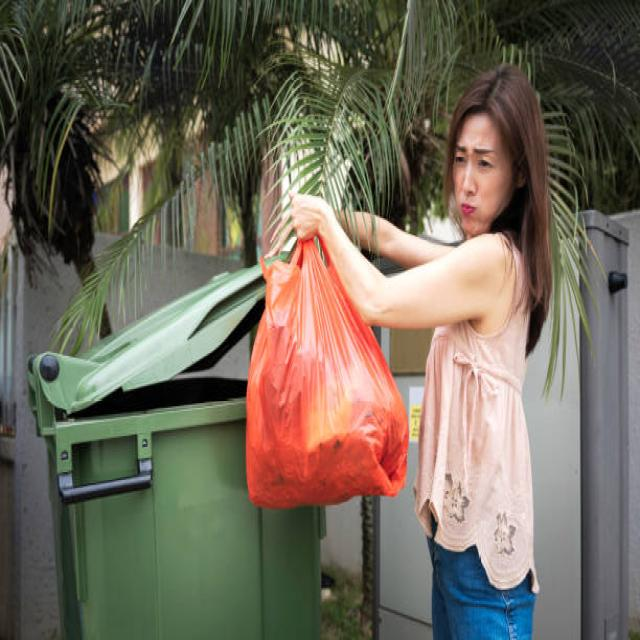bin_empty: (36, 252, 322, 632)
normal_waste: (260, 258, 392, 508)
